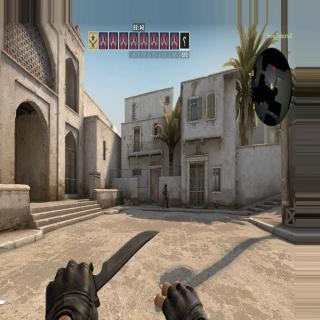CT-Body: (162, 182, 170, 208)
CT-Head: (165, 183, 167, 189)
